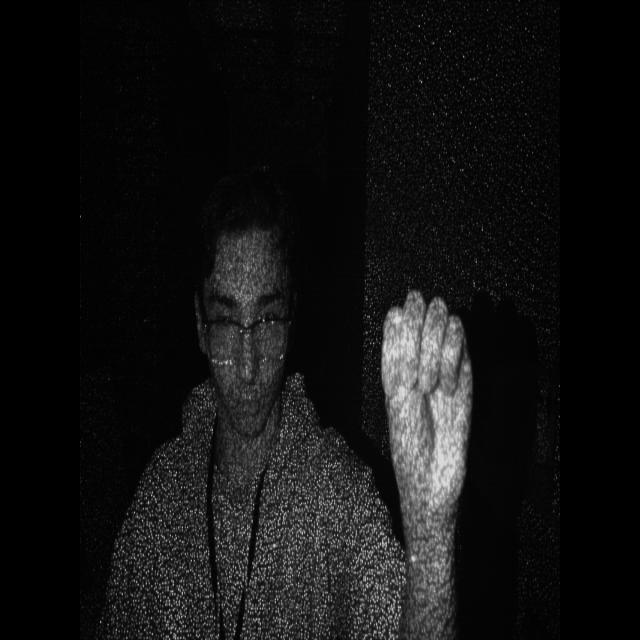M: (374, 276, 480, 522)
